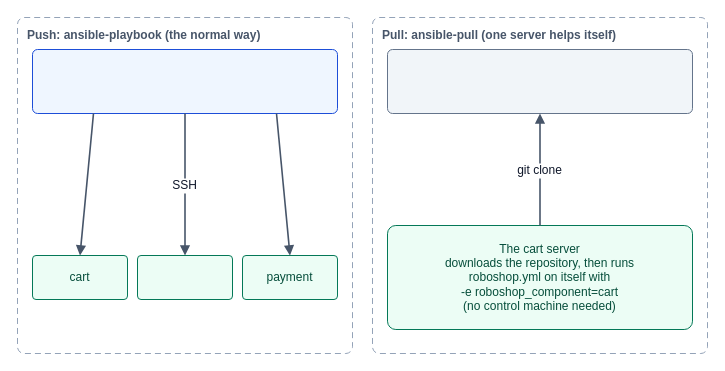
Image size: 725x371. Some labels were removed from this diagram. Each missing label, with the centre of its shape:
"Control machine ansible-playbook roboshop.yml" goes at (x=185, y=81).
"GitHub github.com/mrjithendar/Ansible" goes at (x=539, y=81).
"user" goes at (x=184, y=277).
